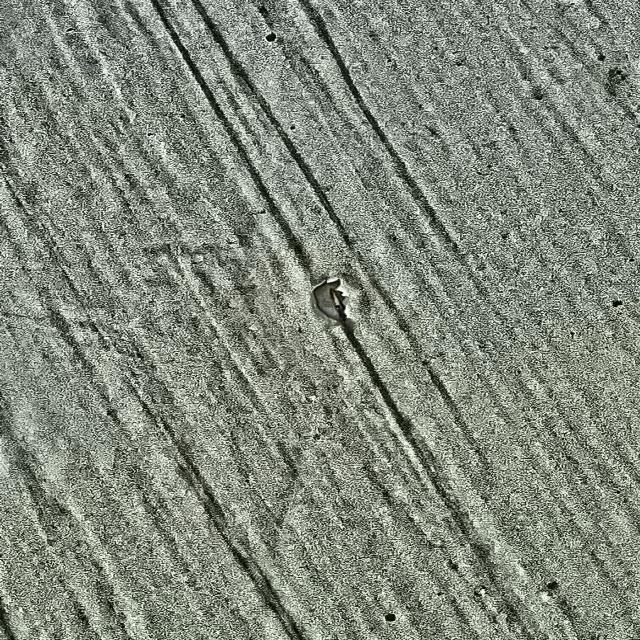crack: (314, 276, 362, 326)
